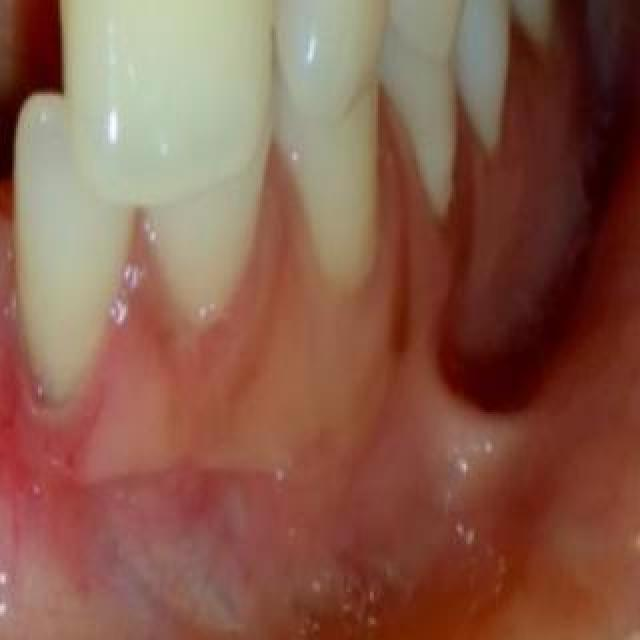spacing: (0, 0, 150, 150), (0, 102, 32, 272)
